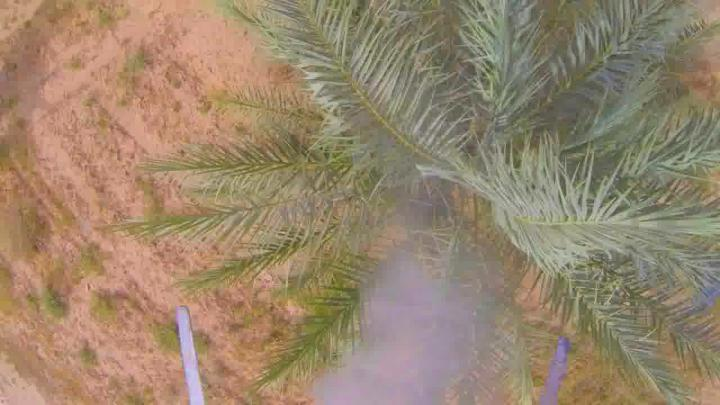Date-Palm-Crown: (318, 28, 684, 364)
